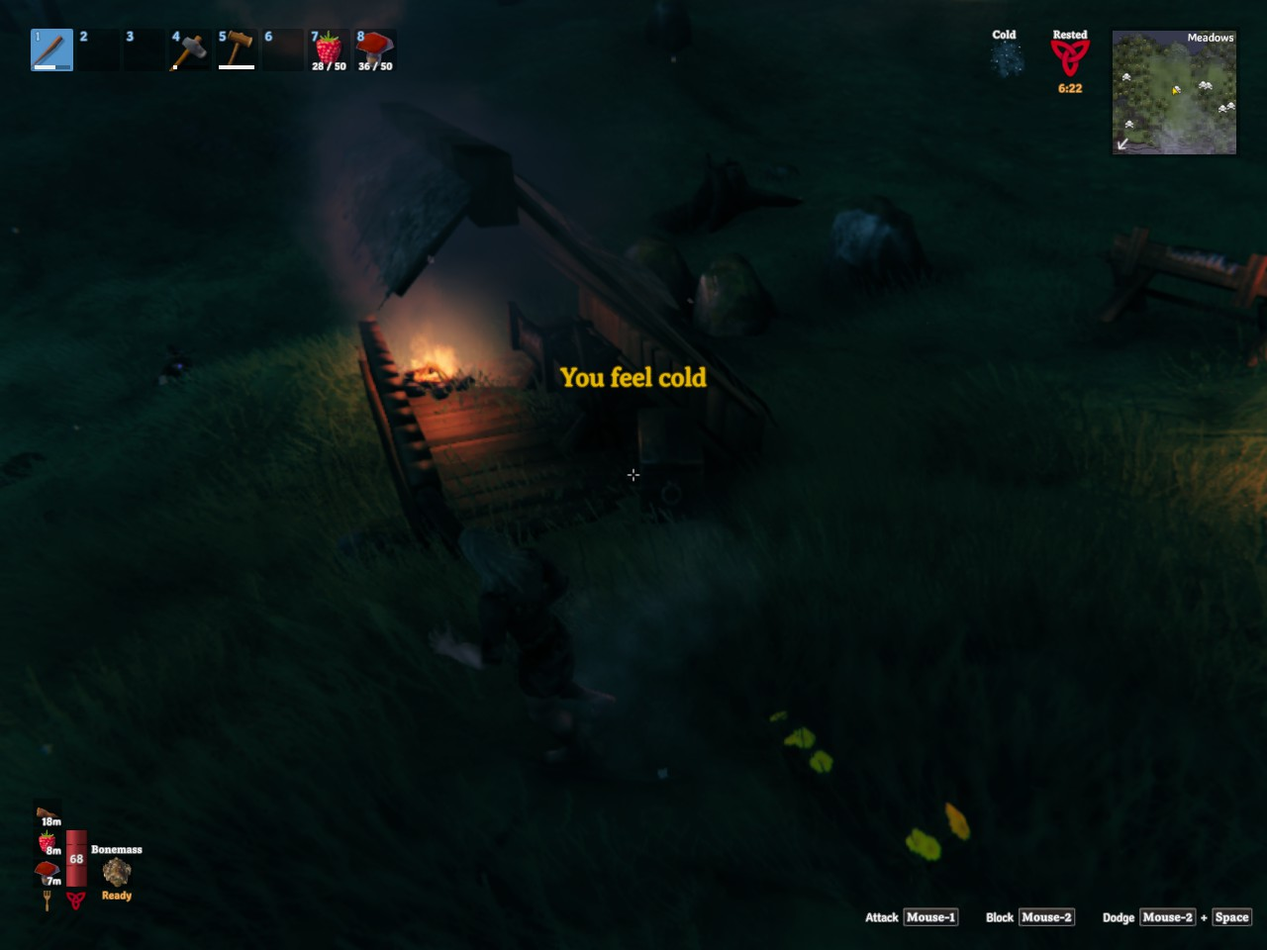Cold Message: (549, 359, 713, 402)
Rested Buff: (1039, 20, 1106, 104)
